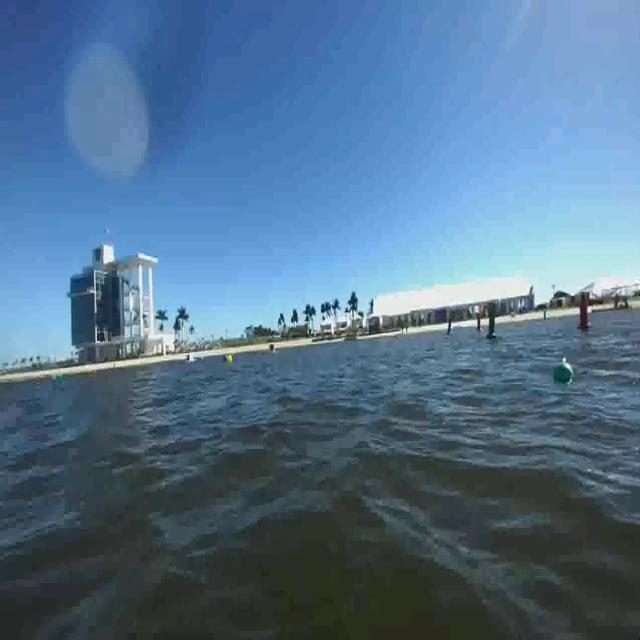green-buoy: (554, 362, 573, 383)
green-column-buoy: (486, 301, 499, 340)
red-column-buoy: (576, 296, 589, 329)
yellow-buoy: (226, 353, 233, 365)
